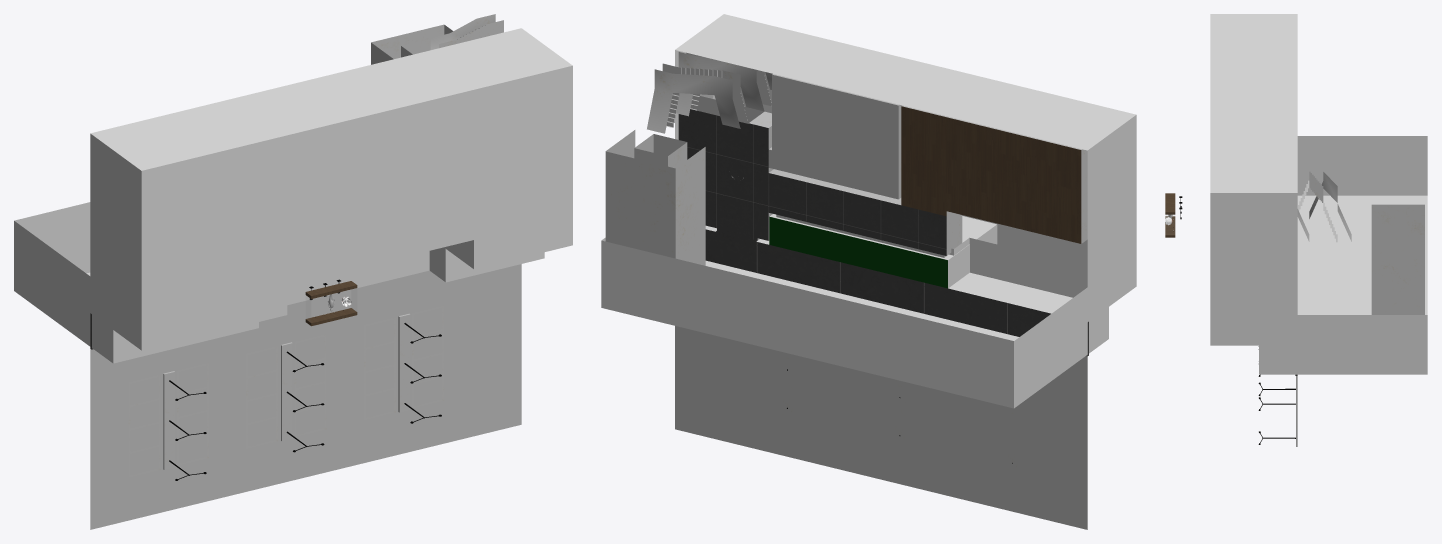
Rendered from ArtGallery.fbx.
The picture shows the model from 3 angles, left to right: view 1: azimuth 30°, elevation 25°; view 2: azimuth 150°, elevation 25°; view 3: azimuth 270°, elevation 25°; orthographic projection. The views are drawn at different scales.
Parts seen in each view (by area): view 1: ArtGalleryWall.004, Outside_Park, ArtGalleryWall.003, ArtGalleryWallUnder, ArtGalleryWall, StairsWall, StreetLampFloor, StreetLampFloor.002, B1_Stairs_Wall, StreetLampFloor.001, GlassBox.001_Wall; view 2: Outside_Park, ArtGalleryWallUnder, ArtGalleryWall.003, WoodRoom_Wall, OutSide_HumanRoad, CarpetRoom_Wall, StairsWall, Lobby_Wall, Lobby_Wall.001, ArtGalleryWall, ArtGalleryWall.001, B1_Stairs_Wall (+5 smaller); view 3: ArtGalleryWallUnder, ArtGalleryWall.003, ArtGalleryWall.002, StairsWall, B1_Stairs_Wall, GlassBox.001_Wall.
Part boxes in pixels (x1,y1,x2,y2): ArtGalleryWall.004: (141,65,572,350); Outside_Park: (90,264,521,529); ArtGalleryWall.003: (90,28,572,170); ArtGalleryWallUnder: (14,202,544,363); ArtGalleryWall: (90,133,141,350); StairsWall: (371,24,452,64); StreetLampFloor: (398,313,410,412); StreetLampFloor.002: (163,371,175,469); B1_Stairs_Wall: (430,14,503,49); StreetLampFloor.001: (281,342,292,441); GlassBox.001_Wall: (305,281,357,326); Outside_Park: (675,326,1087,529); ArtGalleryWallUnder: (601,237,1108,408); ArtGalleryWall.003: (675,14,1135,150); WoodRoom_Wall: (901,105,1087,243); OutSide_HumanRoad: (705,216,1088,356); CarpetRoom_Wall: (768,74,901,199); StairsWall: (605,130,705,265); Lobby_Wall: (678,96,773,240); Lobby_Wall.001: (768,169,962,257); ArtGalleryWall: (1087,115,1136,321); ArtGalleryWall.001: (705,214,1072,313); B1_Stairs_Wall: (647,63,748,133); ArtGalleryWallUnder: (1259,136,1427,374); ArtGalleryWall.003: (1210,14,1297,192); ArtGalleryWall.002: (1210,193,1297,345); StairsWall: (1371,204,1424,314); B1_Stairs_Wall: (1297,171,1351,242); GlassBox.001_Wall: (1165,193,1175,237).
Bounding box in the file's own units: 50.63 × 44.45 × 31.34.
